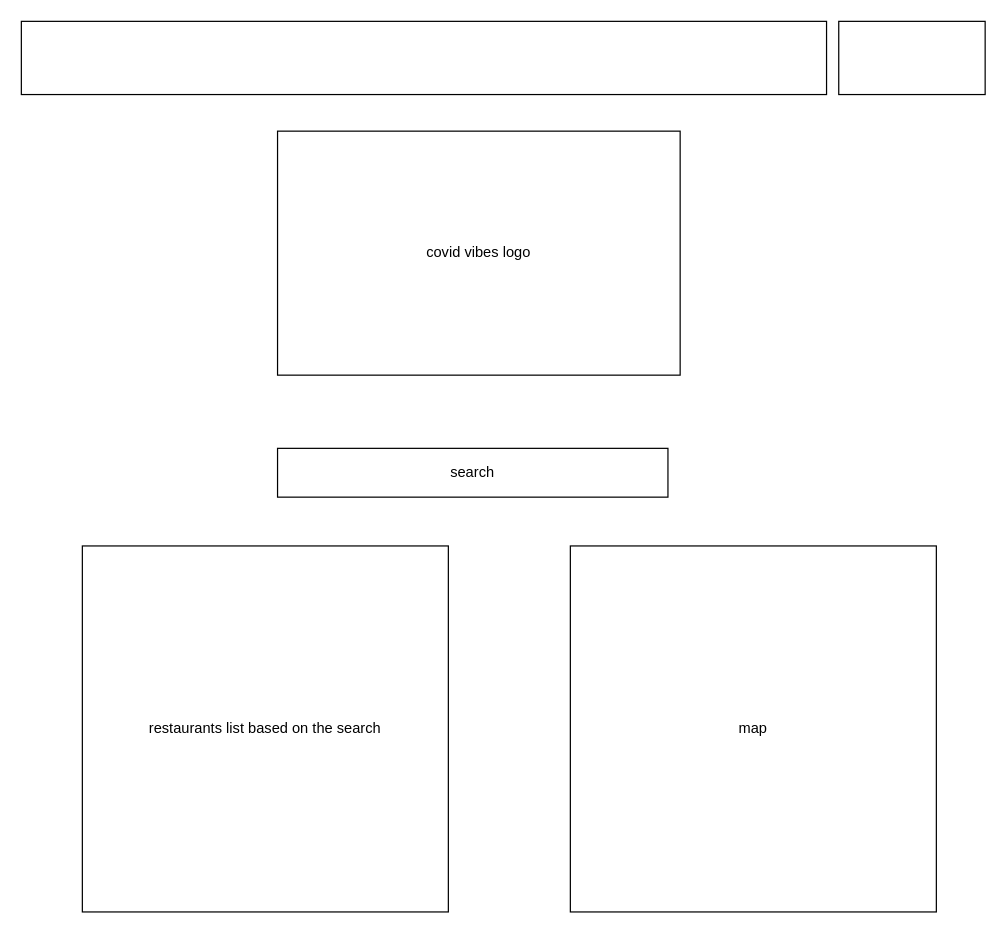
This 1007x933 diagram has some shape labels left out. Each missing label, with the box of its shape:
coviid: (20, 20, 827, 95)
photo of user: (838, 20, 985, 95)
